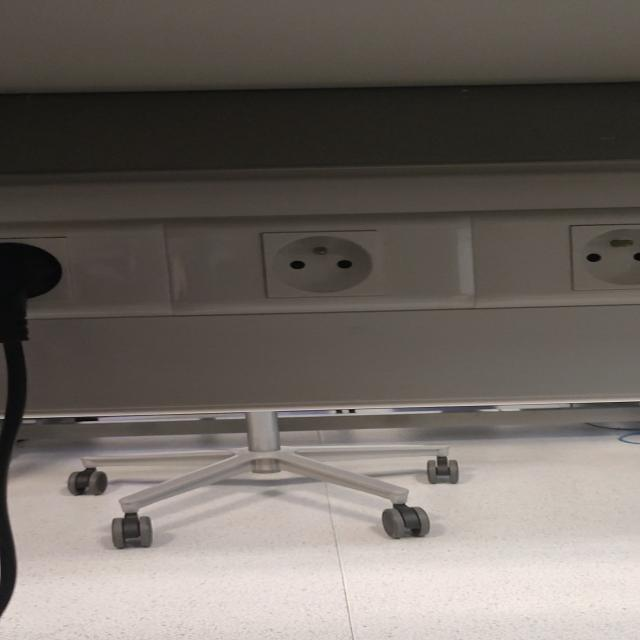house plug: (259, 228, 385, 299)
